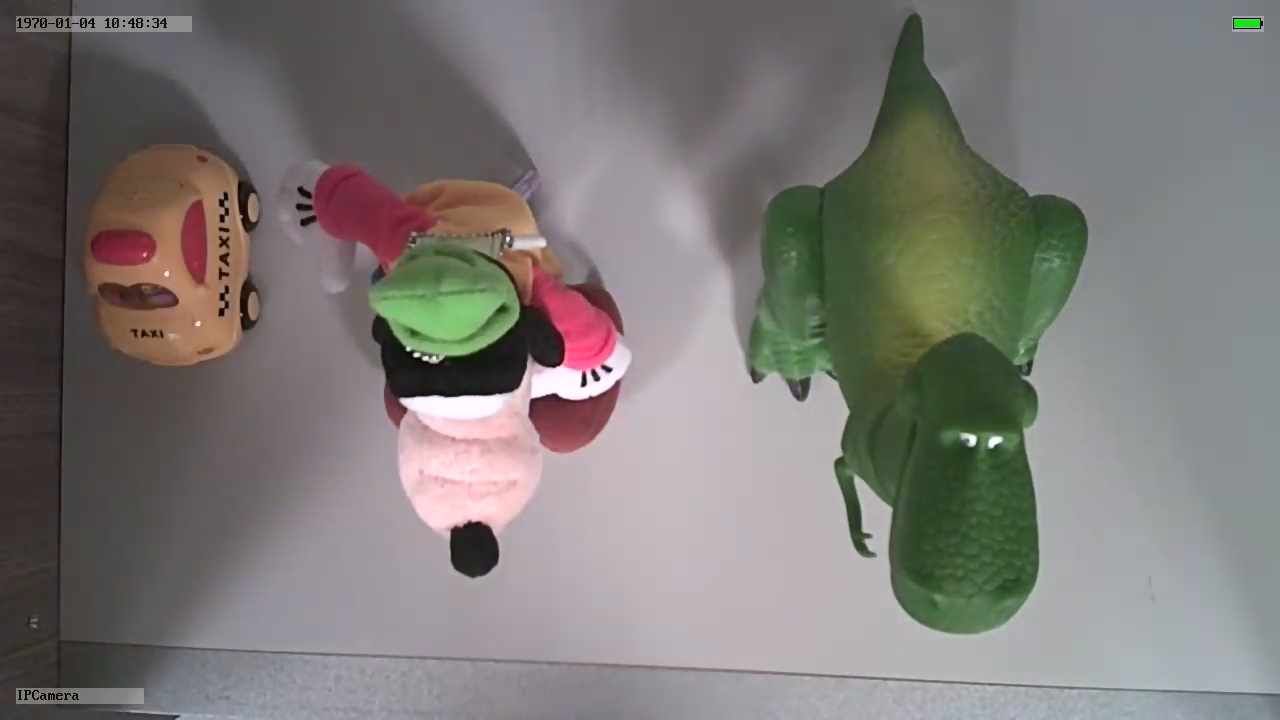goofy: (278, 156, 630, 582)
